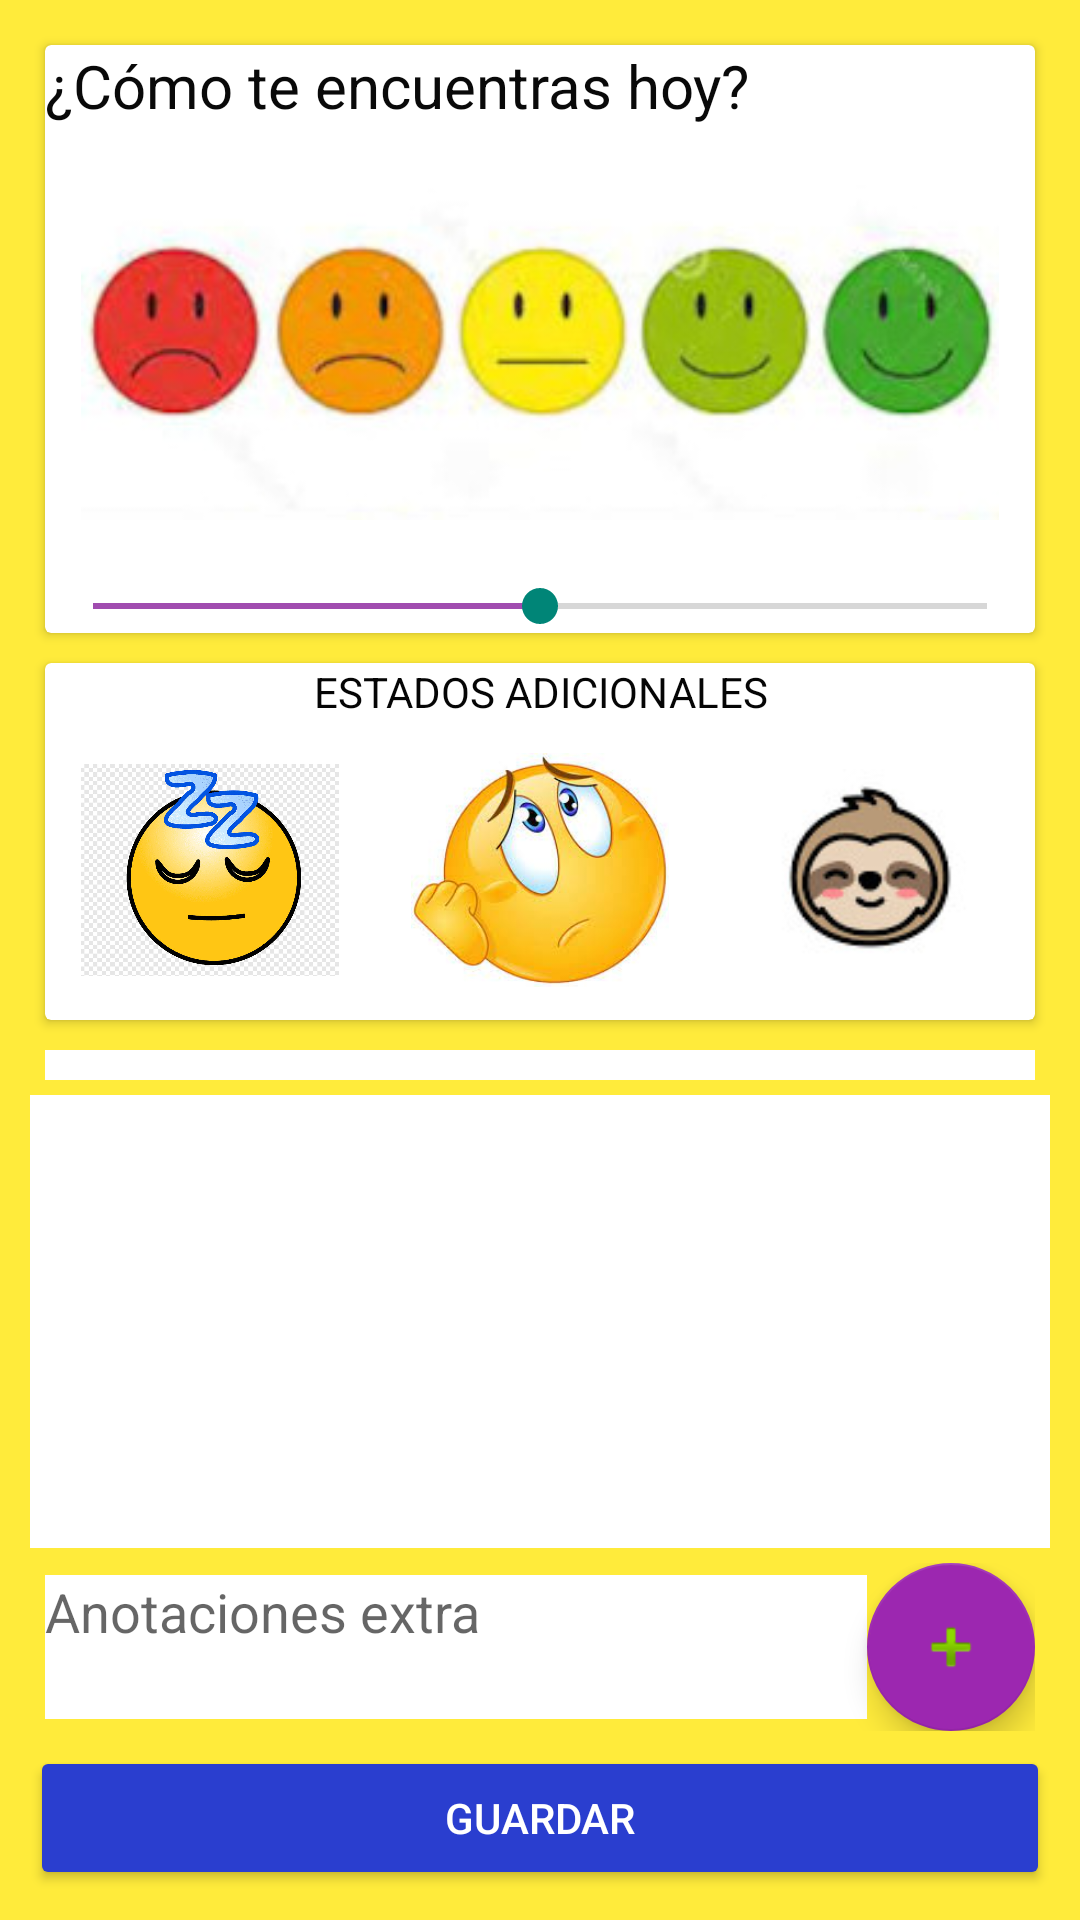

Screen size 1080×1920. Icon name, then its center in pixels as [x,y]:
add: [951,1647]
cara cansancio: [210,870]
cara perezoso: [870,867]
